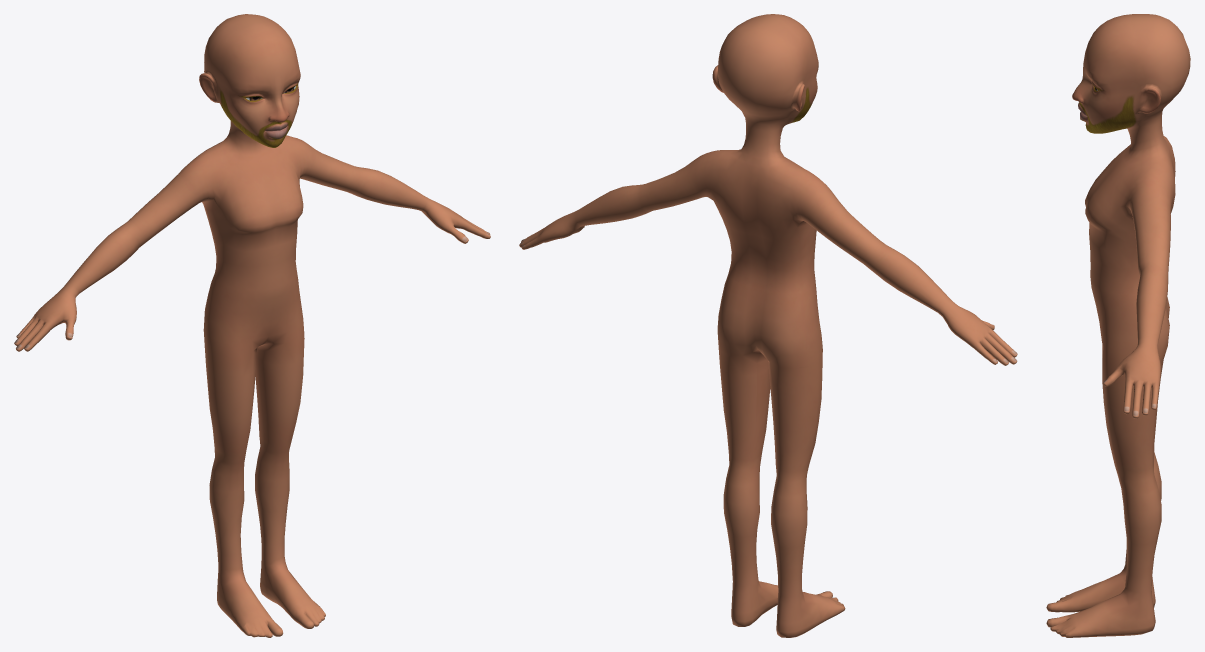
The model's file is frame_0070.glb.
3 renders of one model, left to right at view 1: azimuth 30°, elevation 25°; view 2: azimuth 150°, elevation 25°; view 3: azimuth 270°, elevation 25°, orthographic. The views are drawn at different scales.
Parts seen in each view (by area): view 1: frame_0070_head_geo; view 2: frame_0070_head_geo; view 3: frame_0070_head_geo.
Boxes of the visible parts, bbox=[...] form: frame_0070_head_geo: bbox=[14, 14, 490, 637]; frame_0070_head_geo: bbox=[519, 14, 1017, 637]; frame_0070_head_geo: bbox=[1046, 14, 1190, 637].
Bounding box in the file's own units: 1.28 × 1.5 × 0.3253.
3 materials, 3 textured.
